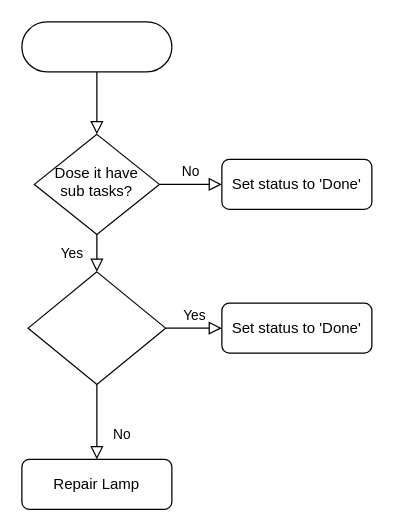
Image size: 394x531. Some labels were removed from this diagram. The shapes that lost their labels are listed below. From the top down, each one's centre as x and y in pixels, then its label:
At point (96, 46): "User wants to close a ticket".
At point (96, 327): "Are the sub tasks status 'Done'".
